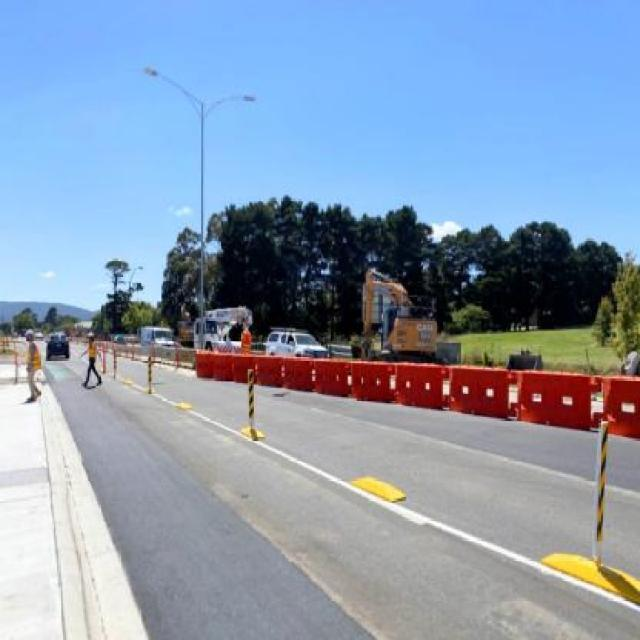fallen_object: (191, 333, 640, 436), (569, 410, 640, 596), (222, 356, 273, 456), (136, 347, 172, 427), (96, 333, 132, 381)
